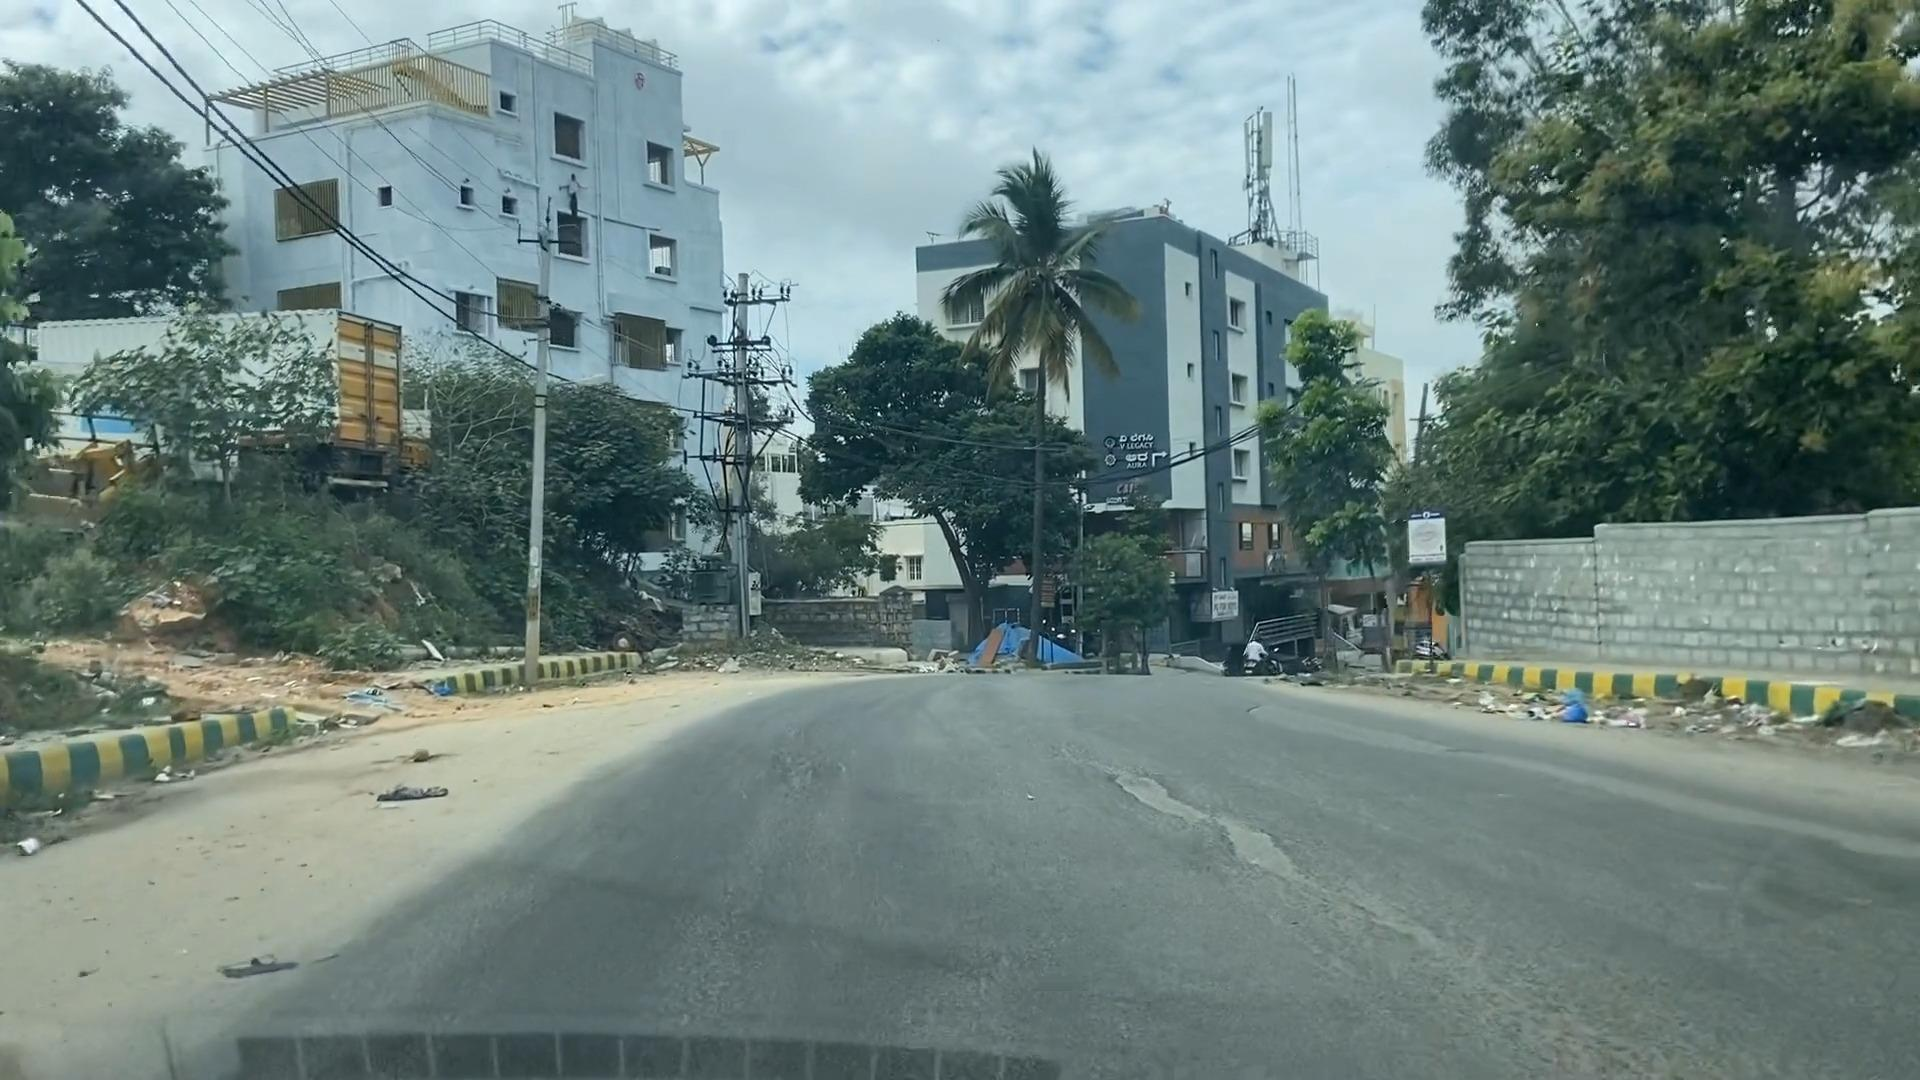RoadDamages: (1021, 716, 1416, 980)
